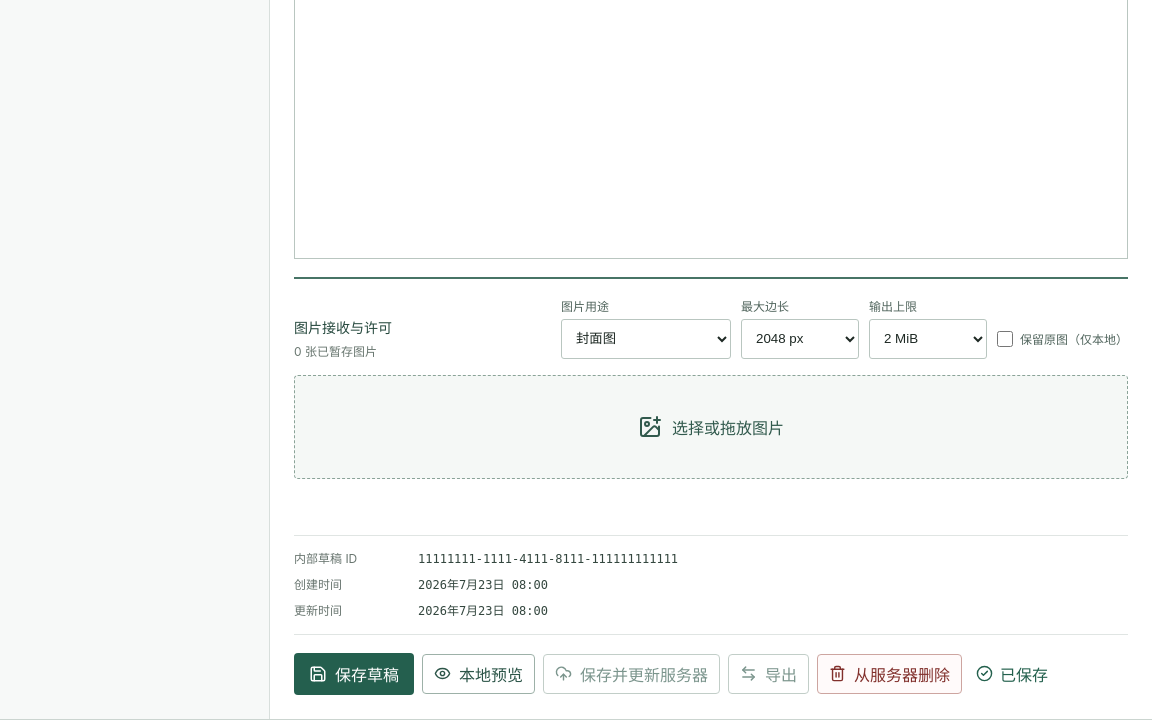
Test case: shows a server deletion error in the editor
(page scrolled)
Step 1. Click the button "从服务器删除" → (890, 674), box [817,654,962,694]
(page scrolled)
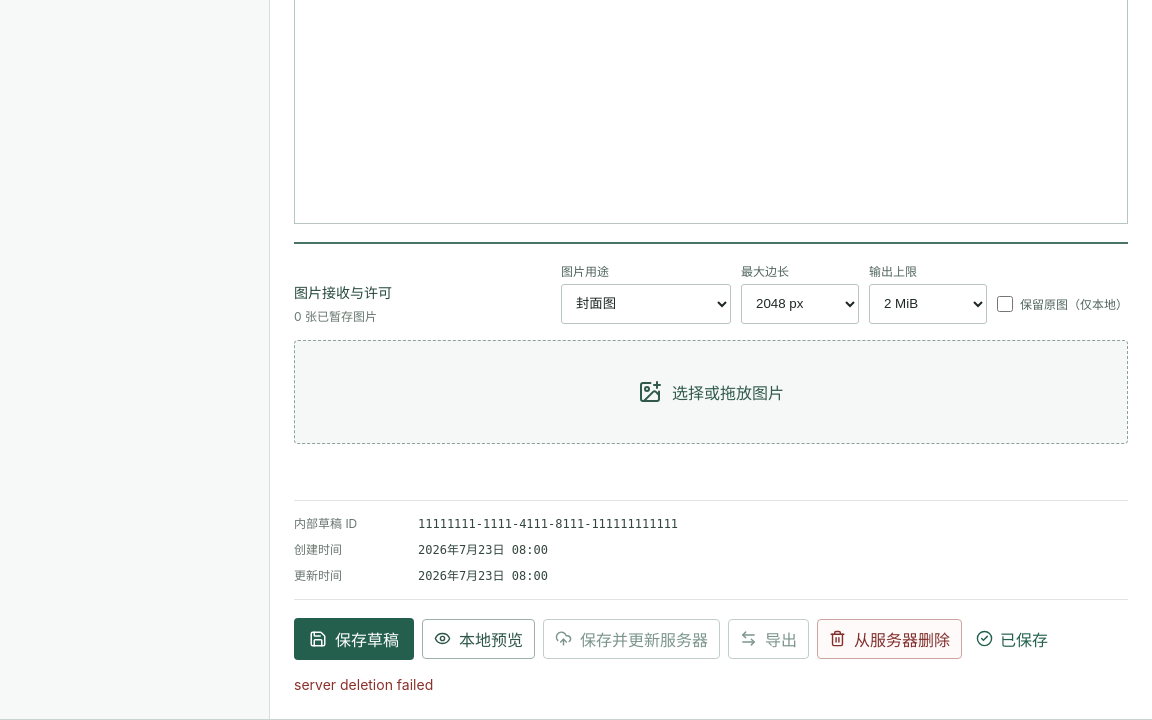
Expected: the message "server deletion failed" is shown, [294,674,433,695]
